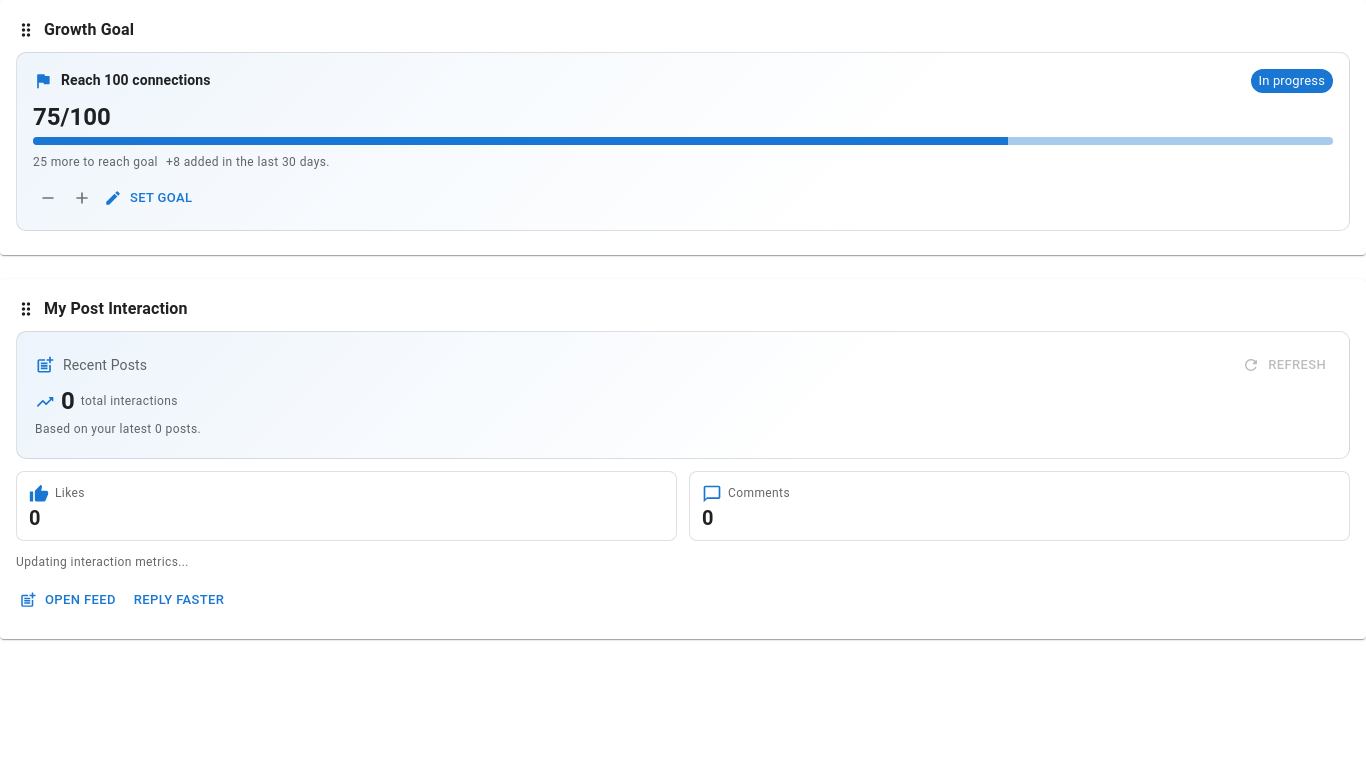
it: AlumniDashboardWidgets › allows setting and persisting a new alumni growth goal
Click the button "Set Goal" at (149, 198), box [101,183,198,214]
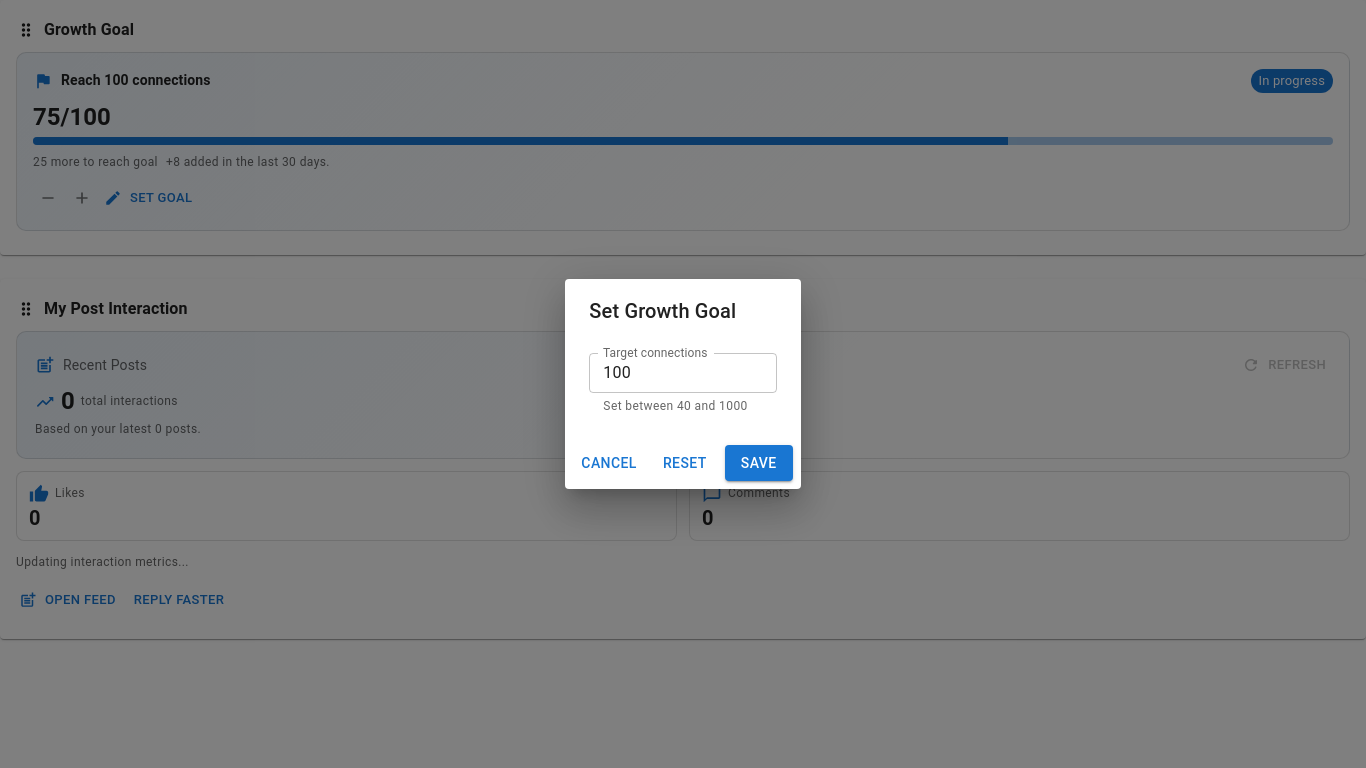
Replace the text in the number field labelled "Target connections" with "260" at (683, 373), box [589,353,777,393]
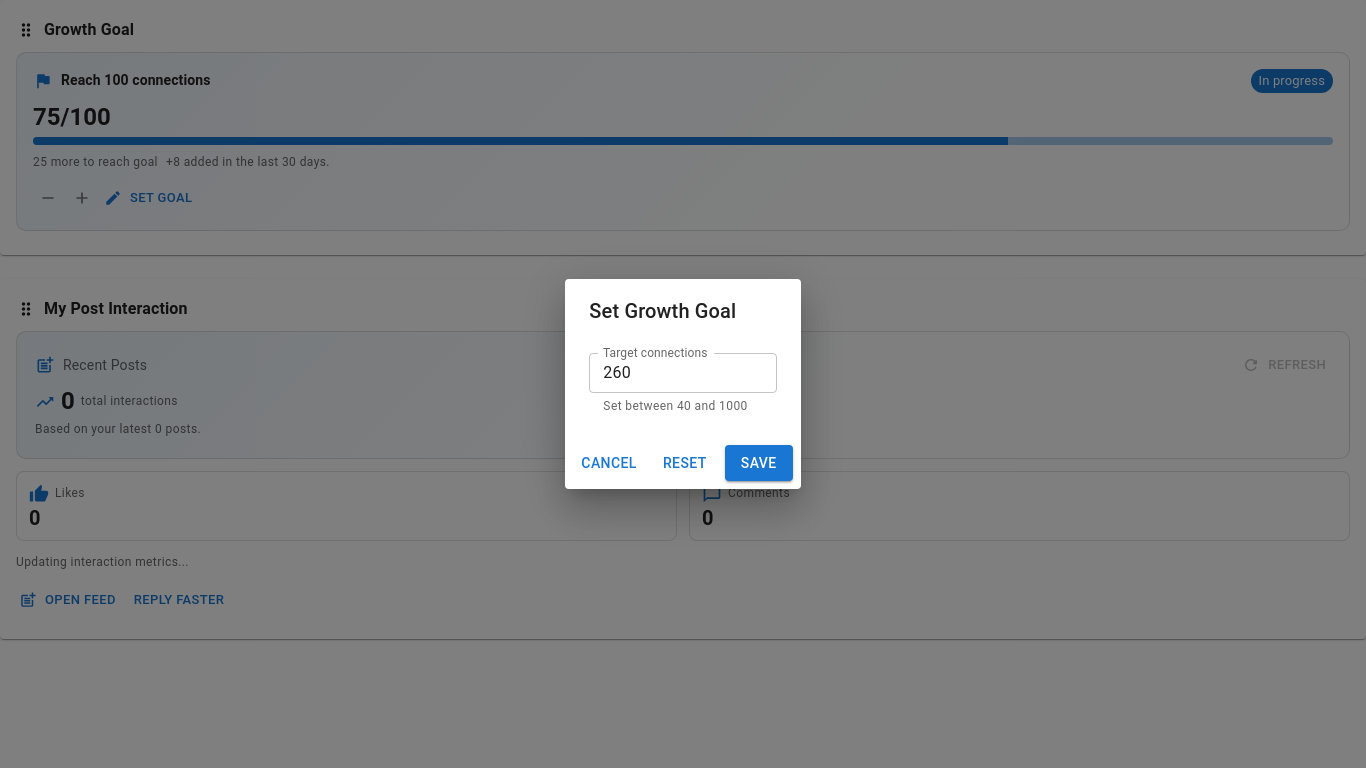
Click the button "Save" at (759, 463), box [725,445,793,481]
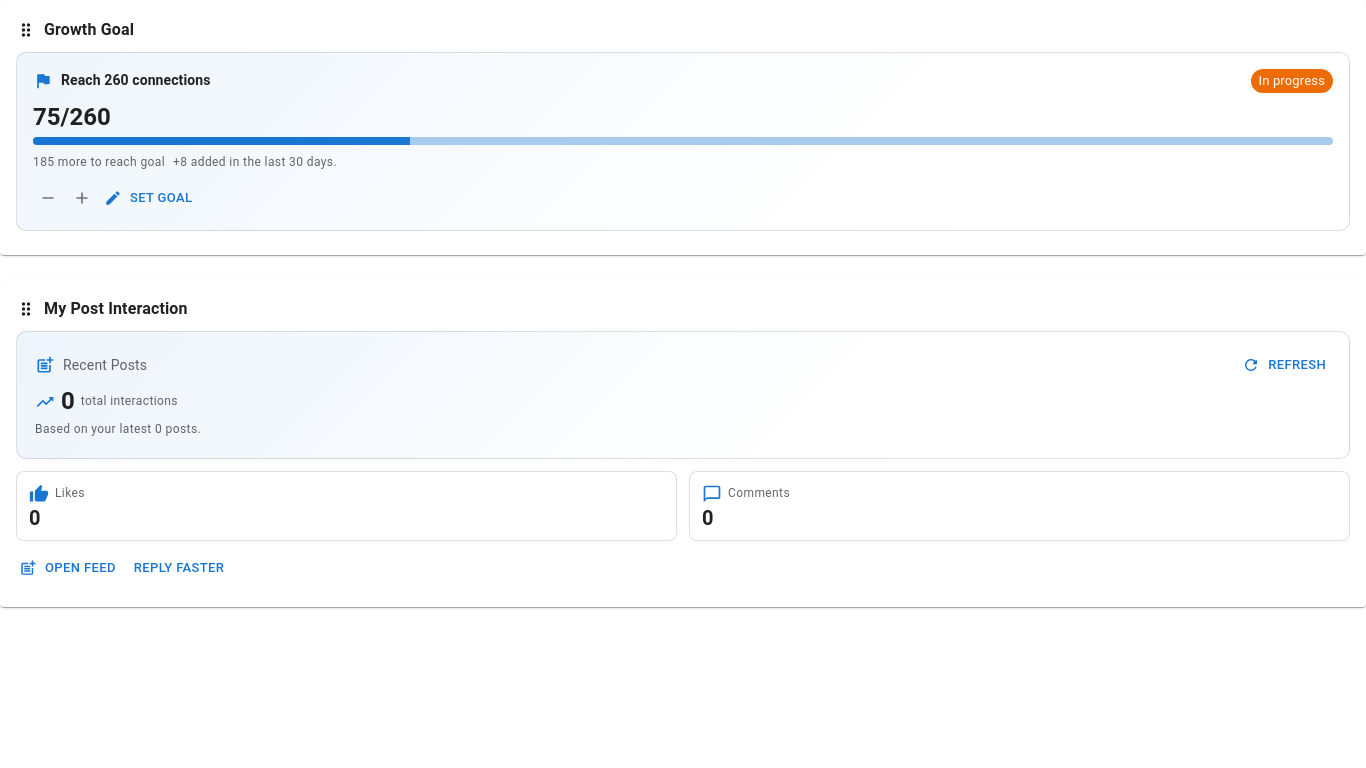
Check: the heading "Reach 260 connections" is shown, box [61,70,210,92]
